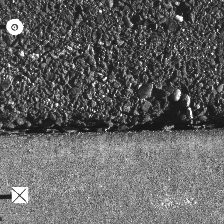circle: (5, 18, 23, 35)
crack: (1, 117, 223, 135)
square: (11, 187, 28, 203)
